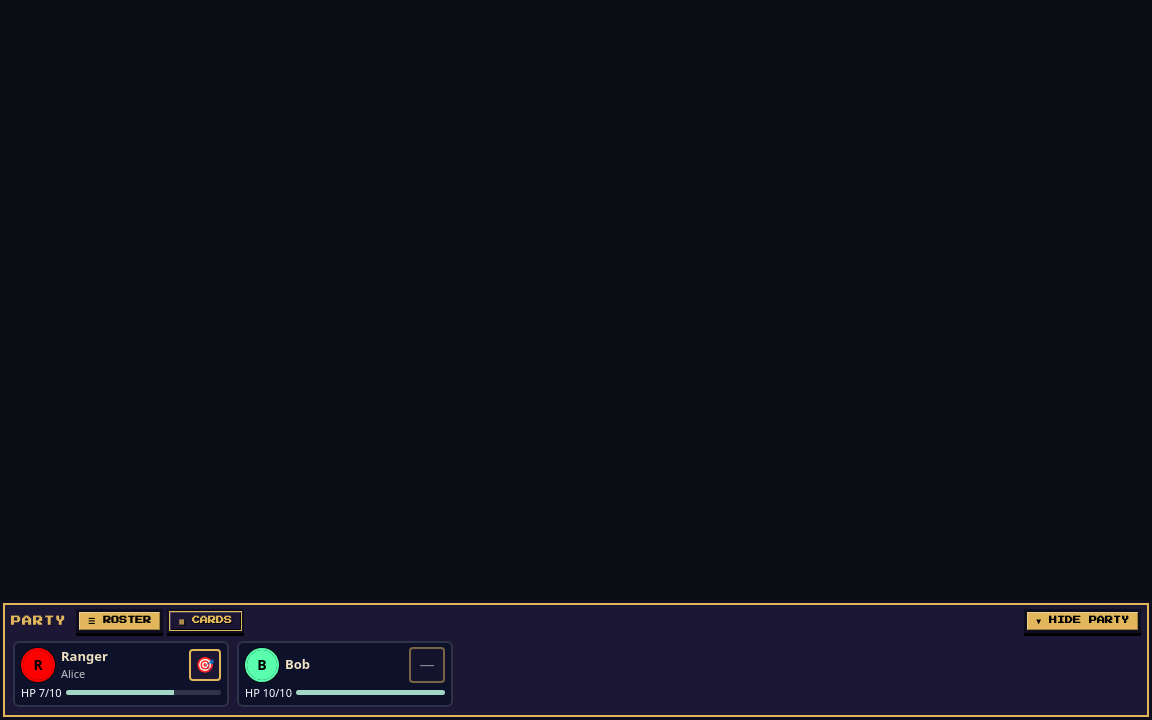
Test: EntitiesPanel roster — the DM's NPC equivalents › offers Owner even on a character with no token, where it is Token settings' only control
Click the button "B Bob" at (324, 664), box [245,648,403,682]
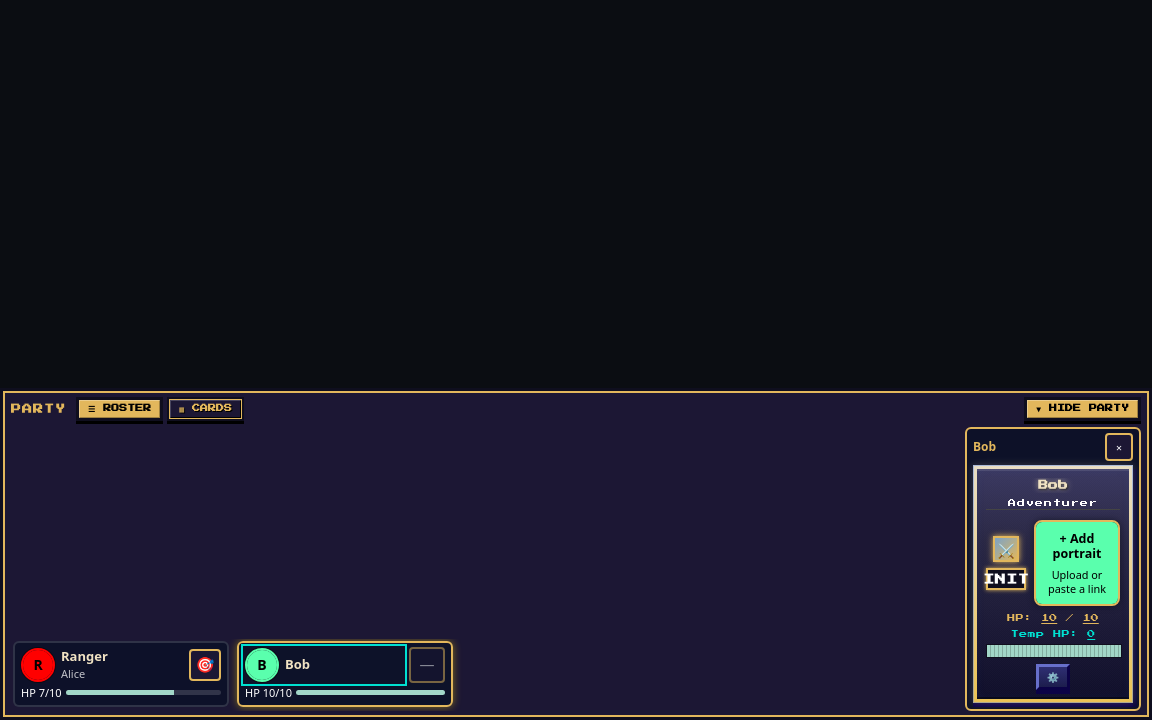
Click the button named "Open player settings" at (1053, 677), box [1036,664,1070,690]
(page scrolled)
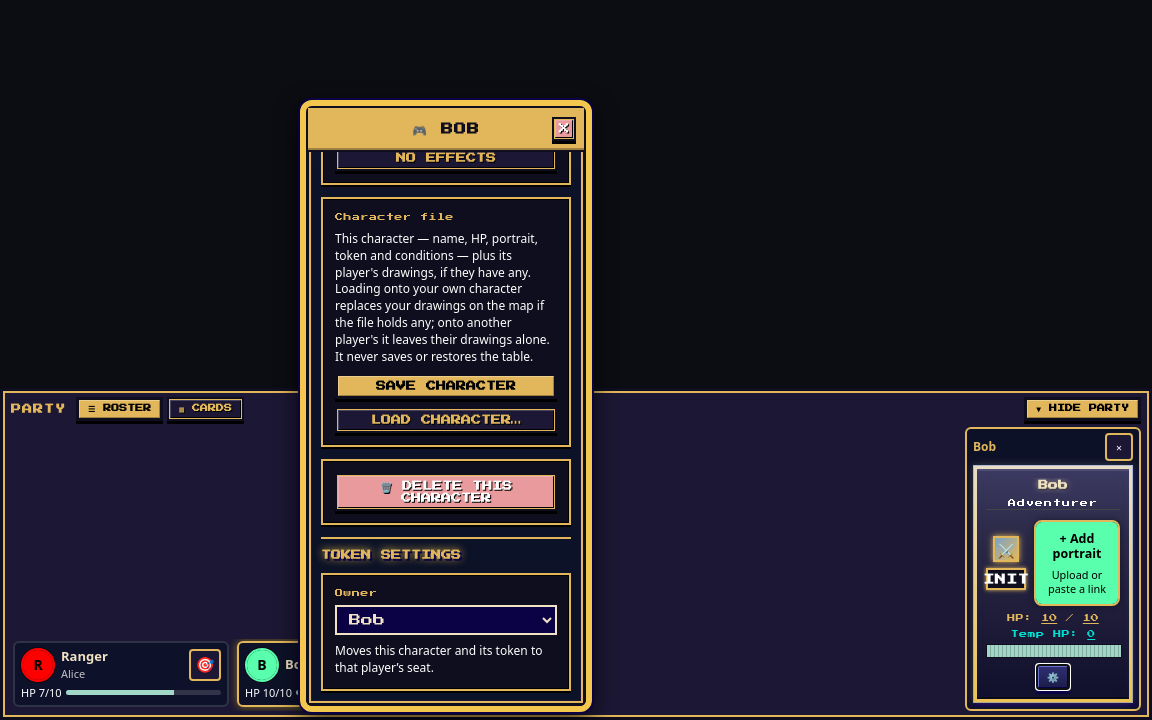
Now the dropdown labelled "Owner" is shown, box [335,605,557,635]
